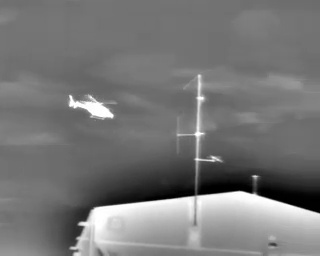HELICOPTER: (65, 86, 122, 126)
